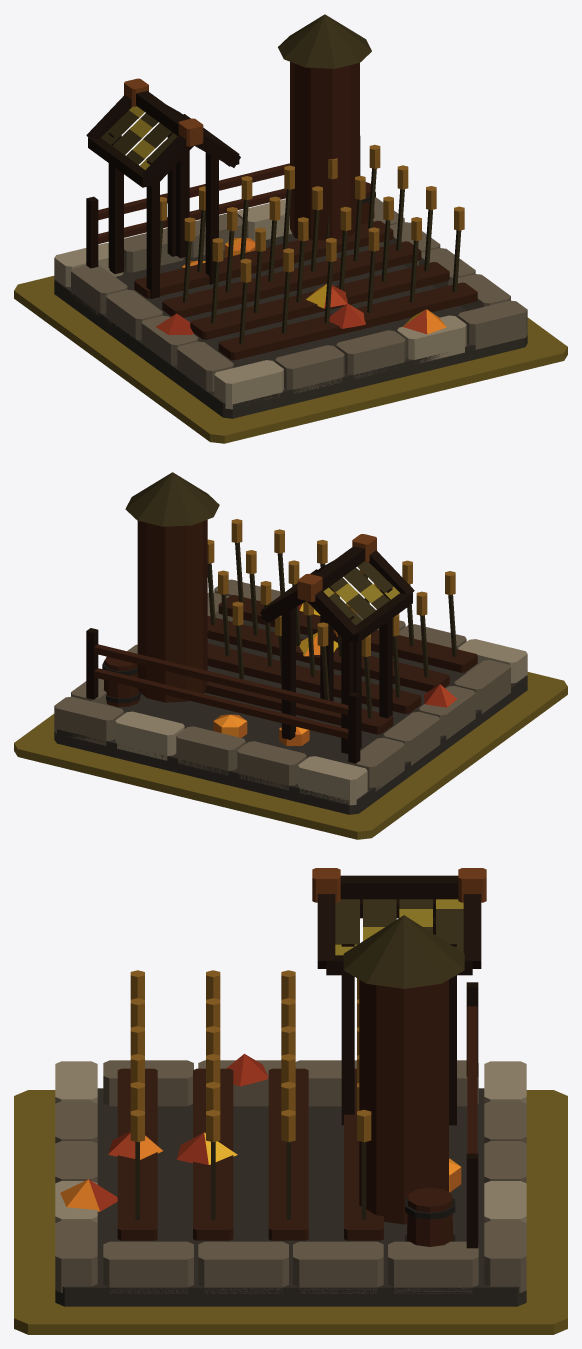
The model's file is farm_t5.glb.
3 renders of one model, top to bottom at view 1: azimuth 30°, elevation 25°; view 2: azimuth 150°, elevation 25°; view 3: azimuth 270°, elevation 25°, orthographic. The views are drawn at different scales.
Visible parts, largest first — view 1: MMR | farm | T05 Architecture.001, MMR | farm | Tier 05 Ground.001, MMR | farm | T05 Shelter Supports.001, MMR | farm | T05 Autumn Dressing.001; view 2: MMR | farm | T05 Architecture.001, MMR | farm | Tier 05 Ground.001, MMR | farm | T05 Shelter Supports.001, MMR | farm | T05 Autumn Dressing.001; view 3: MMR | farm | T05 Architecture.001, MMR | farm | Tier 05 Ground.001, MMR | farm | T05 Autumn Dressing.001, MMR | farm | T05 Shelter Supports.001.
Part boxes in pixels (x1=…): MMR | farm | T05 Architecture.001: x1=54, y1=14, x2=527, y2=418; MMR | farm | Tier 05 Ground.001: x1=14, y1=276, x2=567, y2=443; MMR | farm | T05 Shelter Supports.001: x1=108, y1=132, x2=218, y2=298; MMR | farm | T05 Autumn Dressing.001: x1=156, y1=238, x2=446, y2=334; MMR | farm | T05 Architecture.001: x1=54, y1=472, x2=527, y2=814; MMR | farm | Tier 05 Ground.001: x1=14, y1=672, x2=567, y2=839; MMR | farm | T05 Shelter Supports.001: x1=282, y1=587, x2=392, y2=753; MMR | farm | T05 Autumn Dressing.001: x1=213, y1=603, x2=456, y2=745; MMR | farm | T05 Architecture.001: x1=55, y1=868, x2=526, y2=1306; MMR | farm | Tier 05 Ground.001: x1=14, y1=1090, x2=567, y2=1334; MMR | farm | T05 Autumn Dressing.001: x1=60, y1=1053, x2=461, y2=1211; MMR | farm | T05 Shelter Supports.001: x1=341, y1=944, x2=456, y2=1125.
Size of the model in its own units: 2.35 by 1.65 by 2.35.
1 material, 1 textured.
